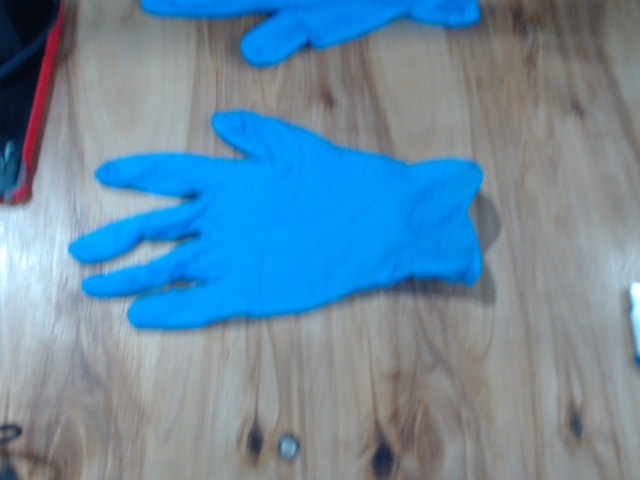medical_glove: (66, 108, 490, 328)
